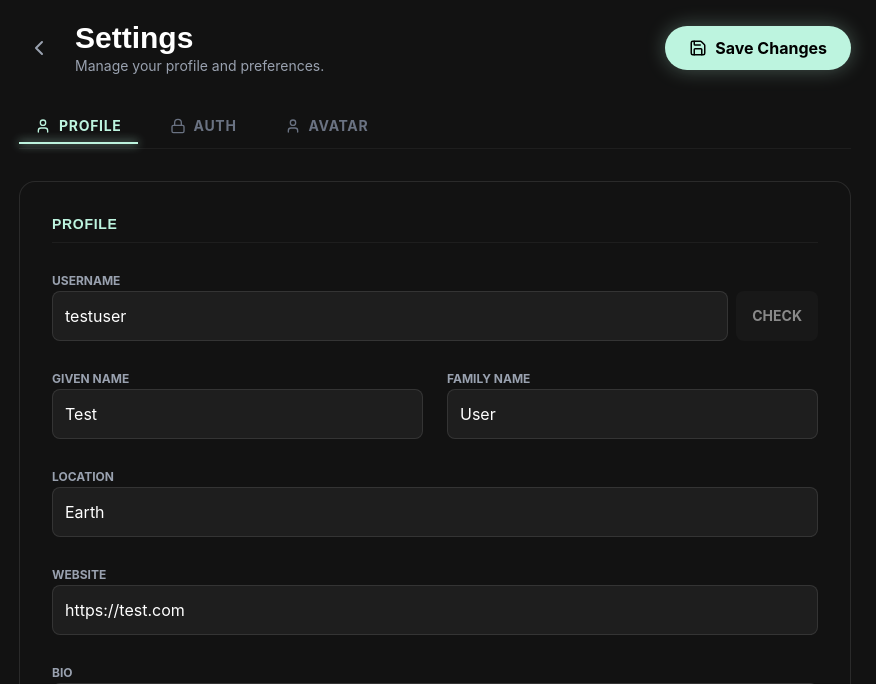
Scenario: Settings Page › checks username availability
The image size is (876, 684).
Replace the text in the field showing "testuser" below "Username" with "newusername" at (390, 316), box [52,291,728,341]
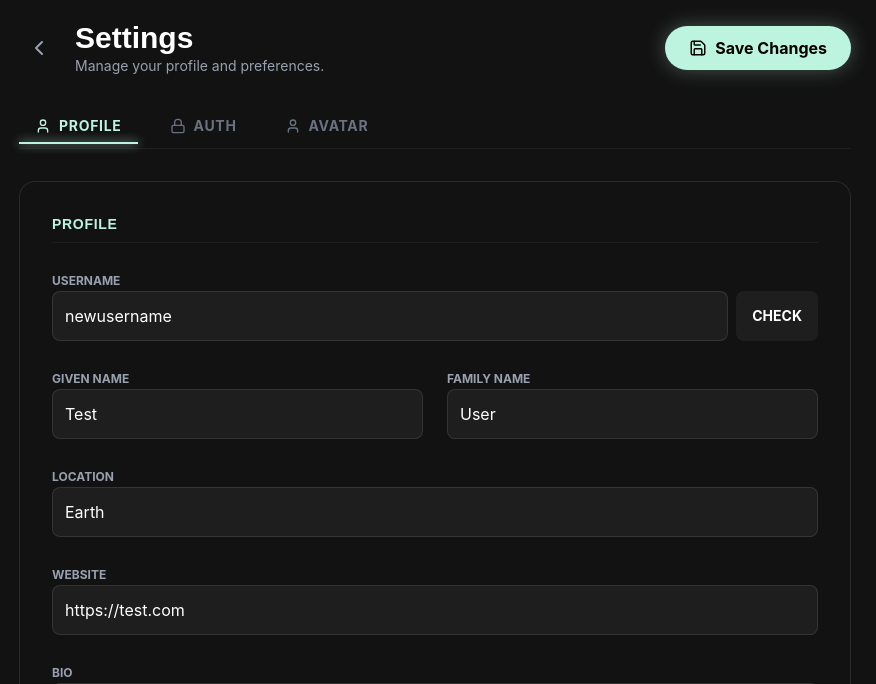
Click the button "Check".
click(777, 316)  # box [736,291,818,341]
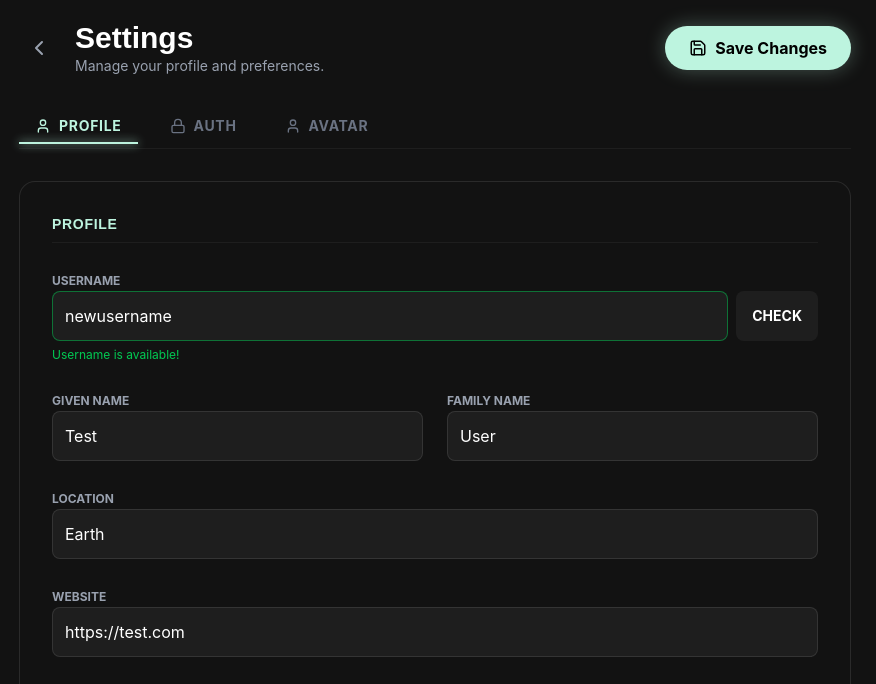
Check: the text "Username is available!" is shown, box [52,347,180,362]
